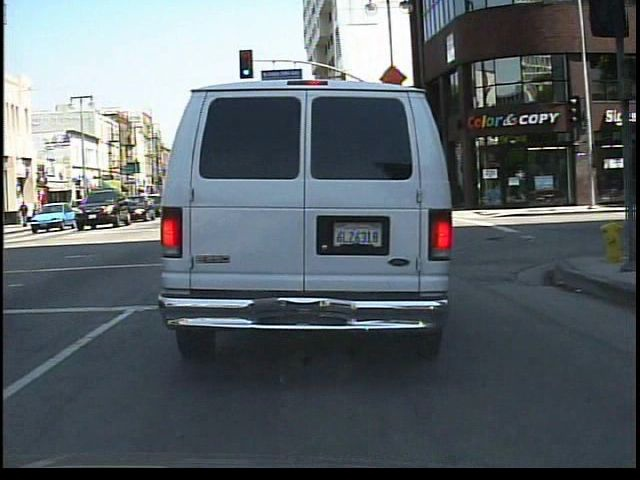person: (21, 198, 32, 230)
